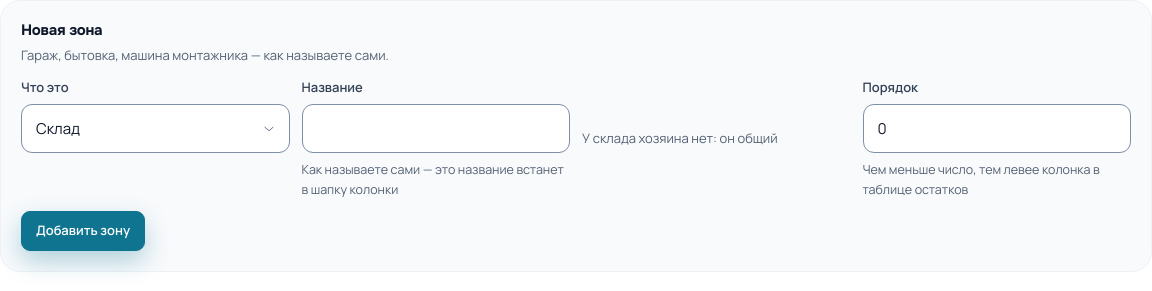
Test: Форма зоны хранения › у машины появляется выбор человека
Select "Машина монтажника" in the dropdown labelled "Что это" at (155, 129), box [21, 104, 290, 153]
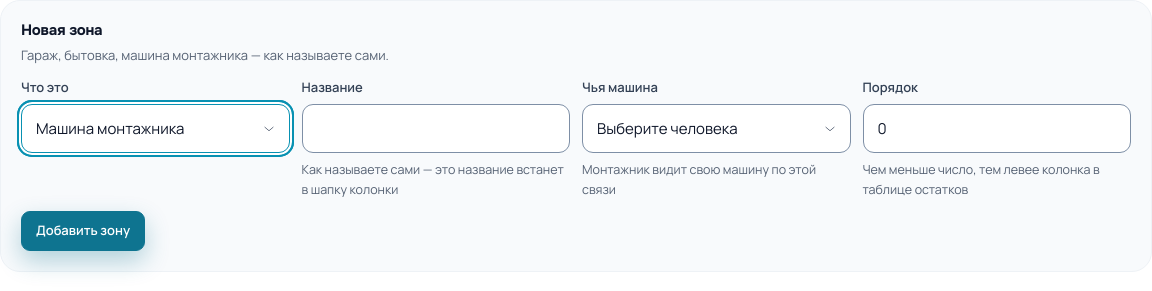
Expected: the dropdown labelled "Чья машина" is shown, [582, 104, 850, 153]
